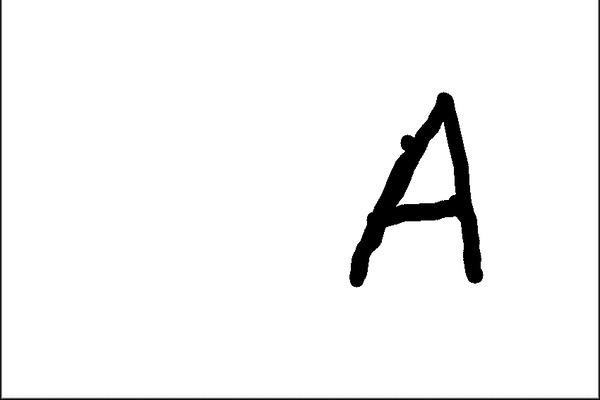A: (334, 84, 492, 291)
